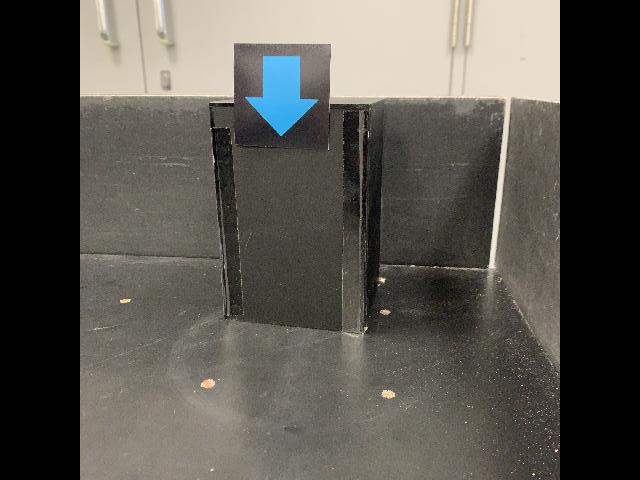down: (232, 41, 333, 154)
